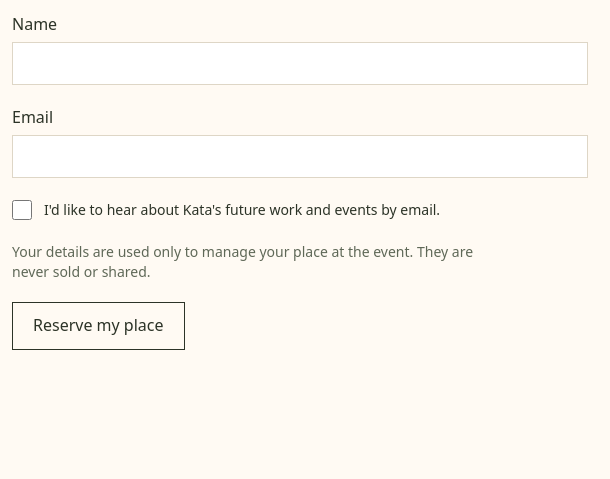
Test: RsvpForm › recovers with a readable error when the network fails outright
Type "Guest" into the field labelled "Name" at (300,63), box [12,42,588,85]
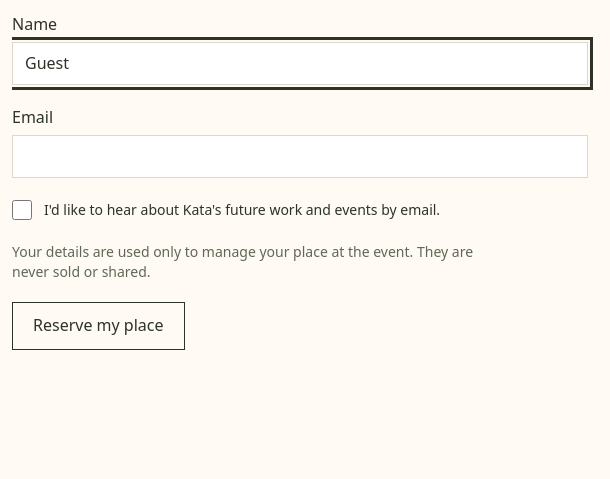
Type "guest@example.com" into the field labelled "Email" at (300,157), box [12,135,588,178]
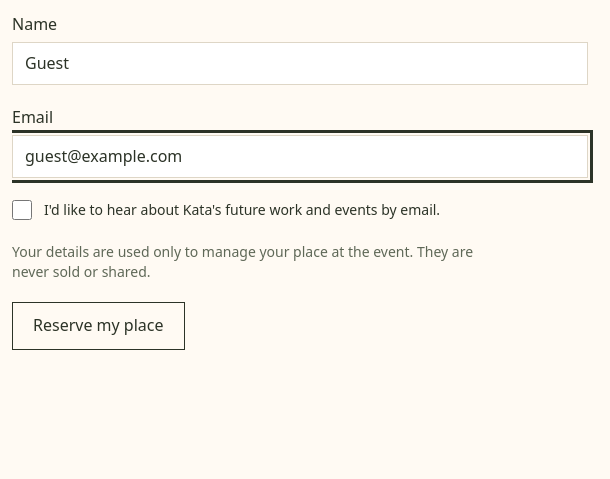
Click the button "Reserve my place" at (98,326), box [12,302,184,350]
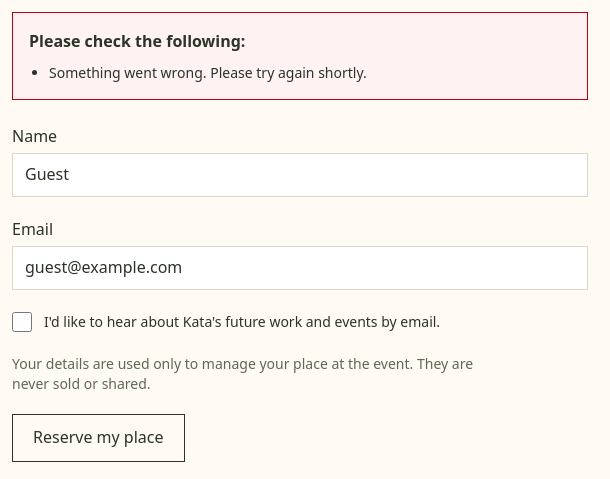
Expected: the message shows "Something went wrong. Please try again shortly.", [49,63,367,82]
